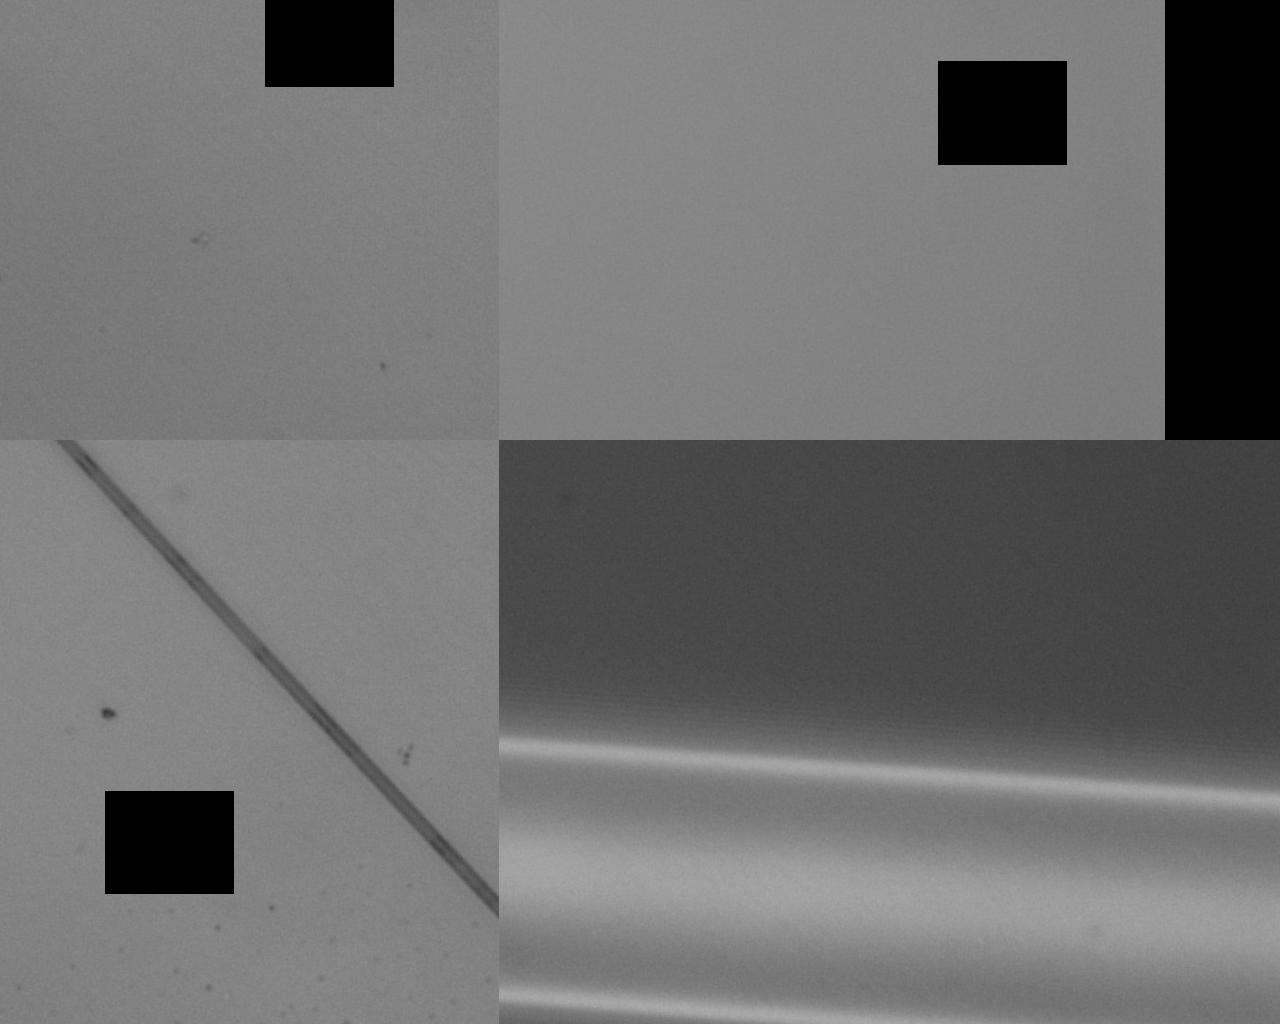fiber: (499, 731, 1280, 1024), (57, 440, 499, 912)
